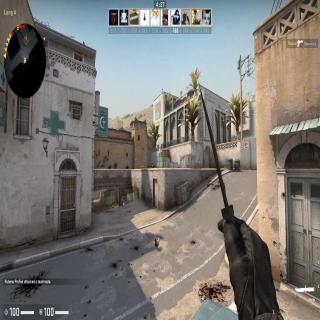CT-Body: (150, 161, 154, 168)
CT-Head: (151, 162, 153, 165)
